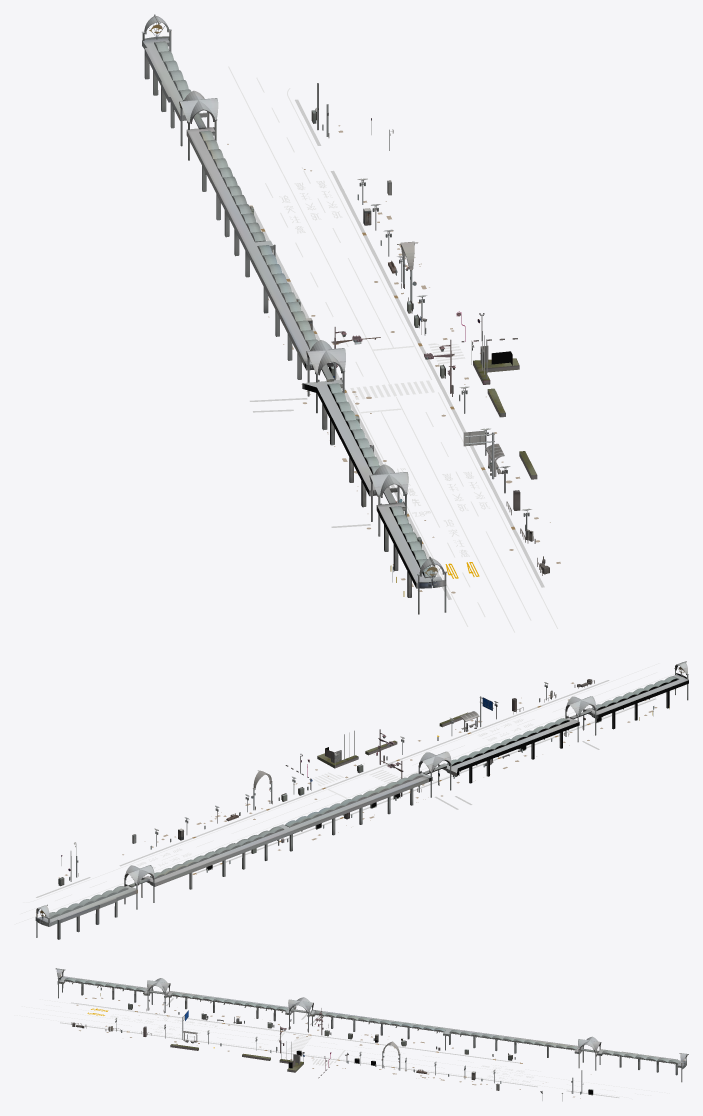
The model's file is frn--15.glb.
The picture shows the model from 3 angles, top to bottom: view 1: azimuth 30°, elevation 25°; view 2: azimuth 150°, elevation 25°; view 3: azimuth 270°, elevation 25°; orthographic projection. The views are drawn at different scales.
Size of the model in its own units: 73.45 by 8.64 by 188.
Materials: 2 (1 with a texture image).
